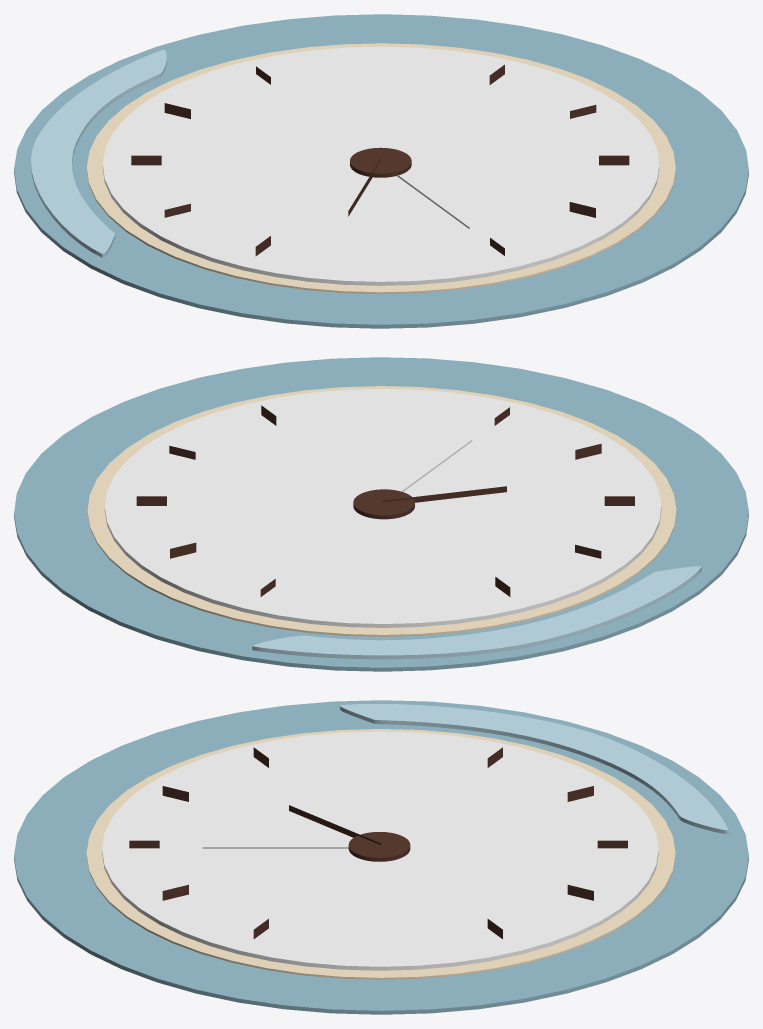
Rendered from emoji_u1f562.glb.
The picture shows the model from 3 angles, top to bottom: view 1: azimuth 30°, elevation 25°; view 2: azimuth 150°, elevation 25°; view 3: azimuth 270°, elevation 25°; orthographic projection.
Parts seen in each view (by area): view 1: emoji_u1f562; view 2: emoji_u1f562; view 3: emoji_u1f562.
Part boxes in pixels (left/top/right/bottom): emoji_u1f562: left=14, top=14, right=748, bottom=328; emoji_u1f562: left=14, top=357, right=748, bottom=671; emoji_u1f562: left=14, top=700, right=748, bottom=1014.
Bounding box in the file's own units: 0.0339 × 0.0018 × 0.0339.
